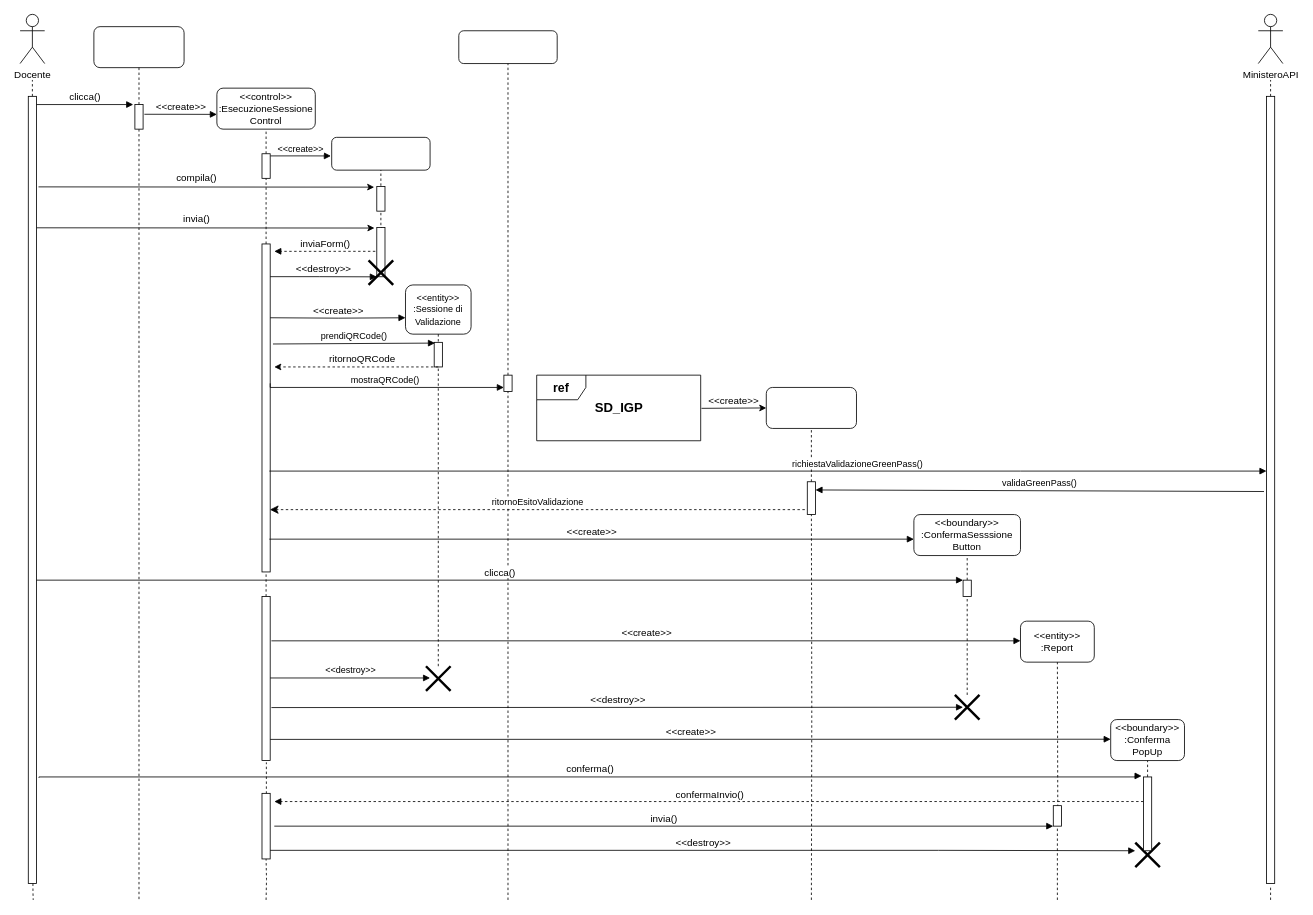
This 1313x915 diagram has some shape labels left out. The centre of each missing label's shape, as x and y in pixels:
"<<boundary>> :DispositivoDocente" belongs at (x=507, y=47).
"<<boundary>> :IniziaSessione Button" belongs at (x=138, y=47).
"<<boundary>> :NumberOfStudentForm" belongs at (x=380, y=153).
"<<entity>> :Esito" belongs at (x=810, y=407).
